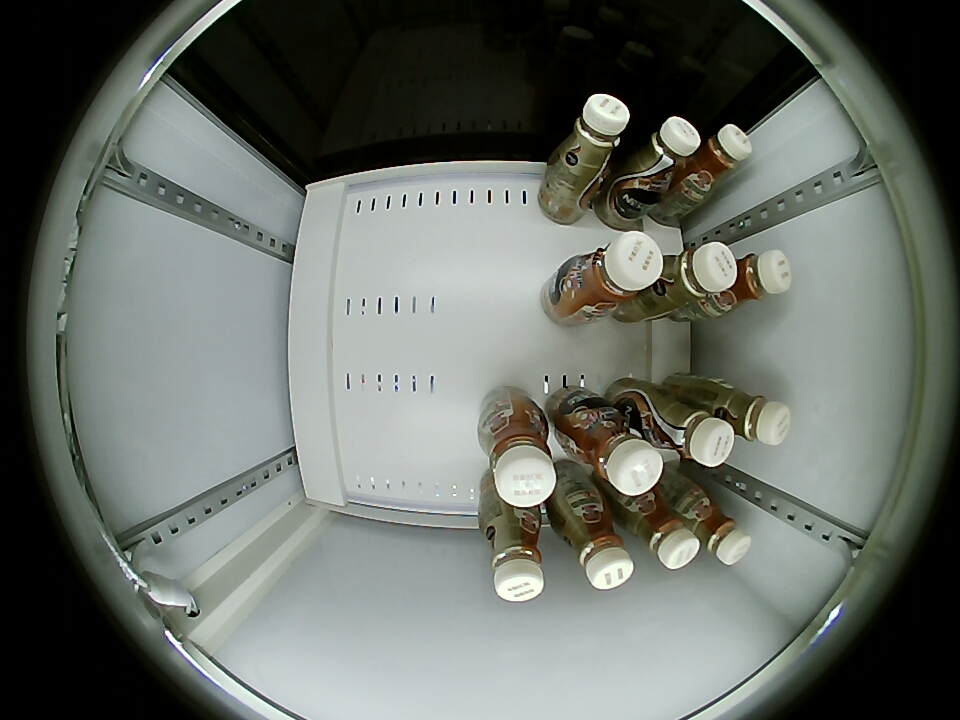kafei: (560, 404, 664, 497), (560, 231, 662, 322), (550, 490, 635, 590), (477, 404, 558, 507), (640, 241, 738, 320), (641, 386, 735, 467), (479, 497, 547, 602), (620, 489, 703, 570), (553, 94, 630, 181), (621, 115, 701, 196), (679, 124, 753, 198), (711, 381, 791, 445), (715, 248, 791, 314), (683, 496, 751, 565)
